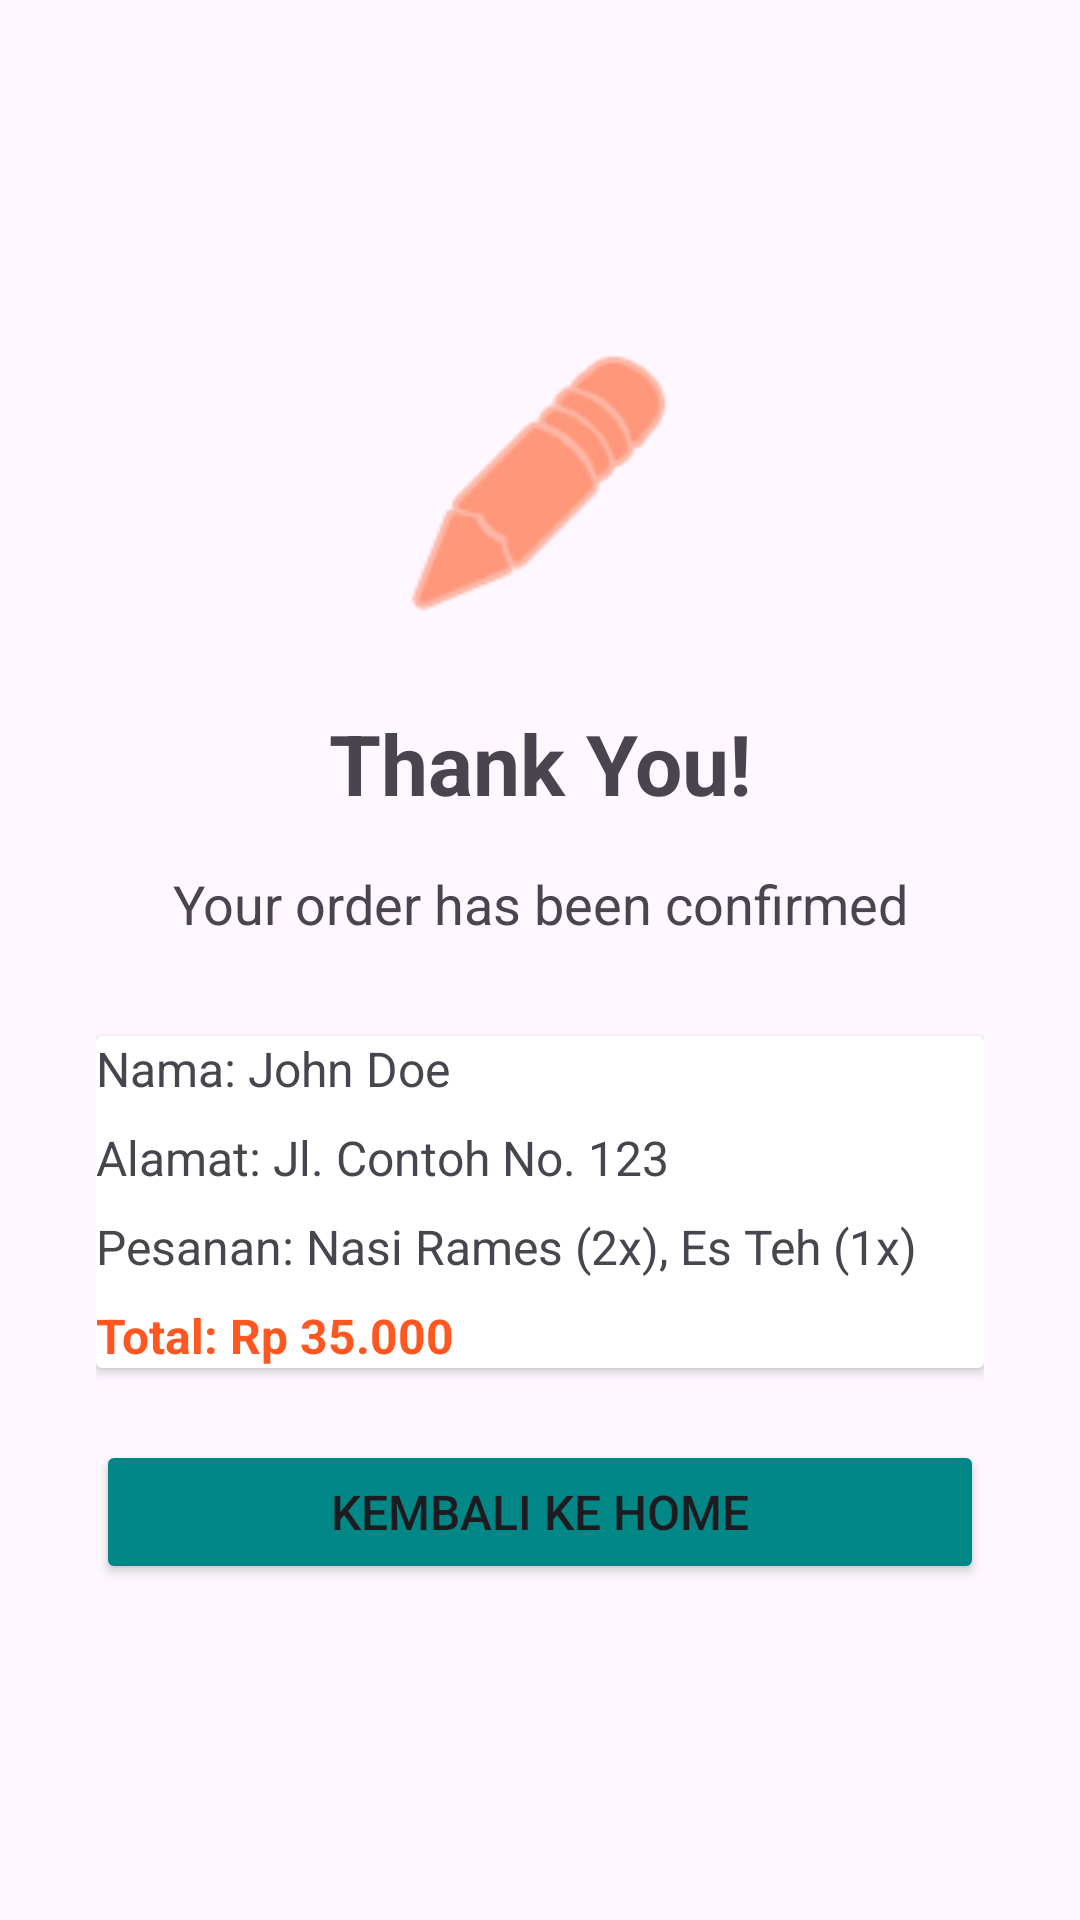

Where to tap for icons on this 1080px×1920px app screen, as (x,y):
edit: (539,483)
